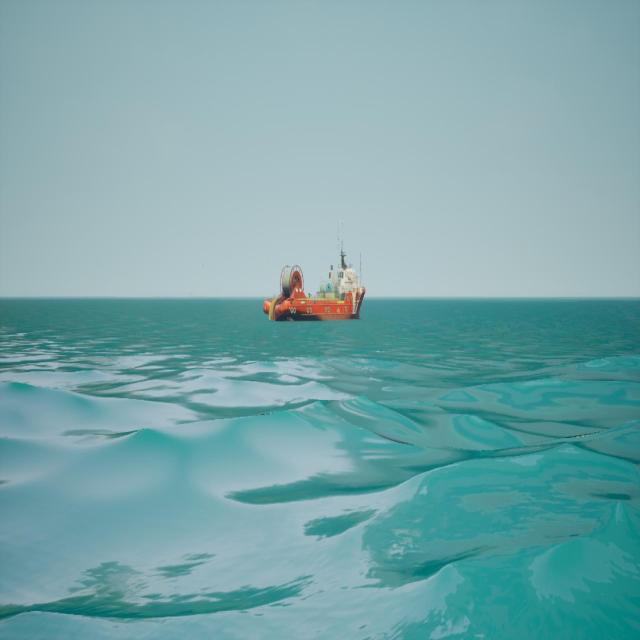tug boat: (268, 226, 368, 324)
